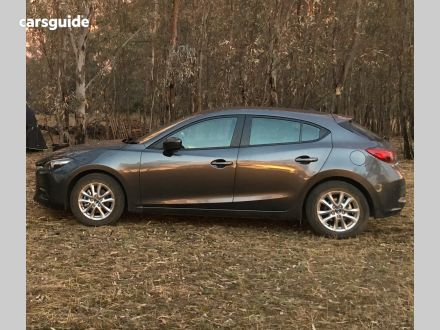Mazda3 Hatchback: (33, 107, 406, 240)
